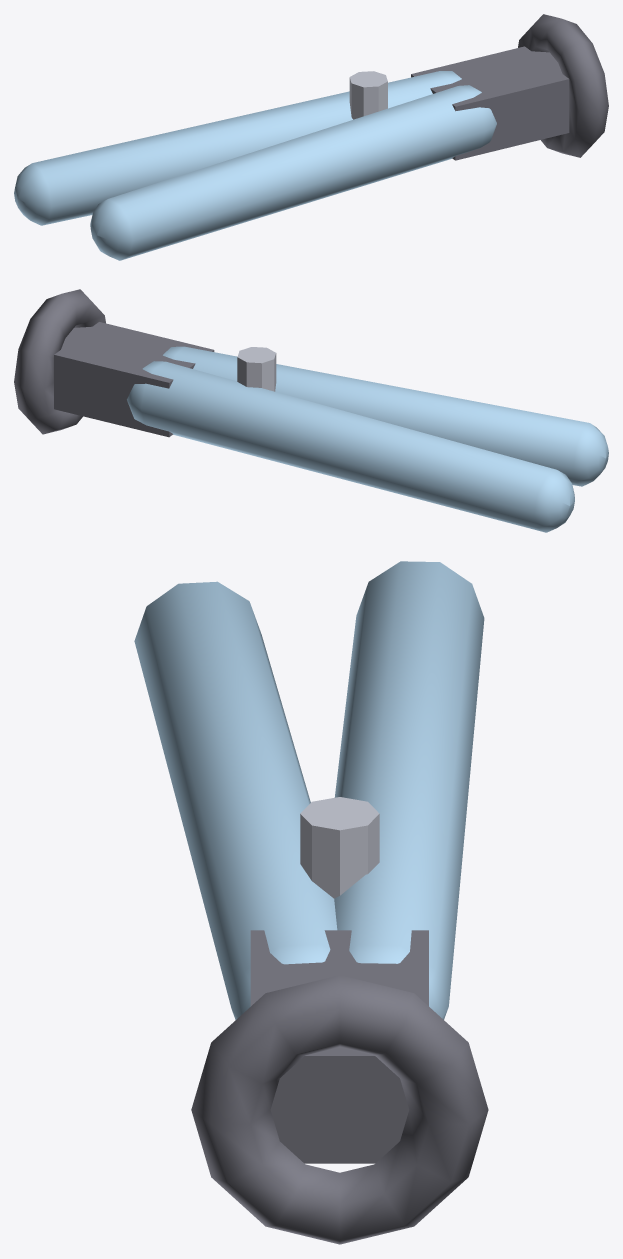
Rendered from companion-animals-and-pet-home-nail-clippers-f664c3a4__20671.glb.
3 views of the same model, one above another, from view 1: azimuth 30°, elevation 25°; view 2: azimuth 150°, elevation 25°; view 3: azimuth 270°, elevation 25° (orthographic). The views are drawn at different scales.
Parts seen in each view (by area): view 1: nail-clippers; view 2: nail-clippers; view 3: nail-clippers.
Part boxes in pixels (<box>): nail-clippers: <box>14,14,608,260</box>; nail-clippers: <box>14,289,608,532</box>; nail-clippers: <box>134,561,488,1244</box>.
Bounding box in the file's own units: 0.1255 × 0.03 × 0.0357.
